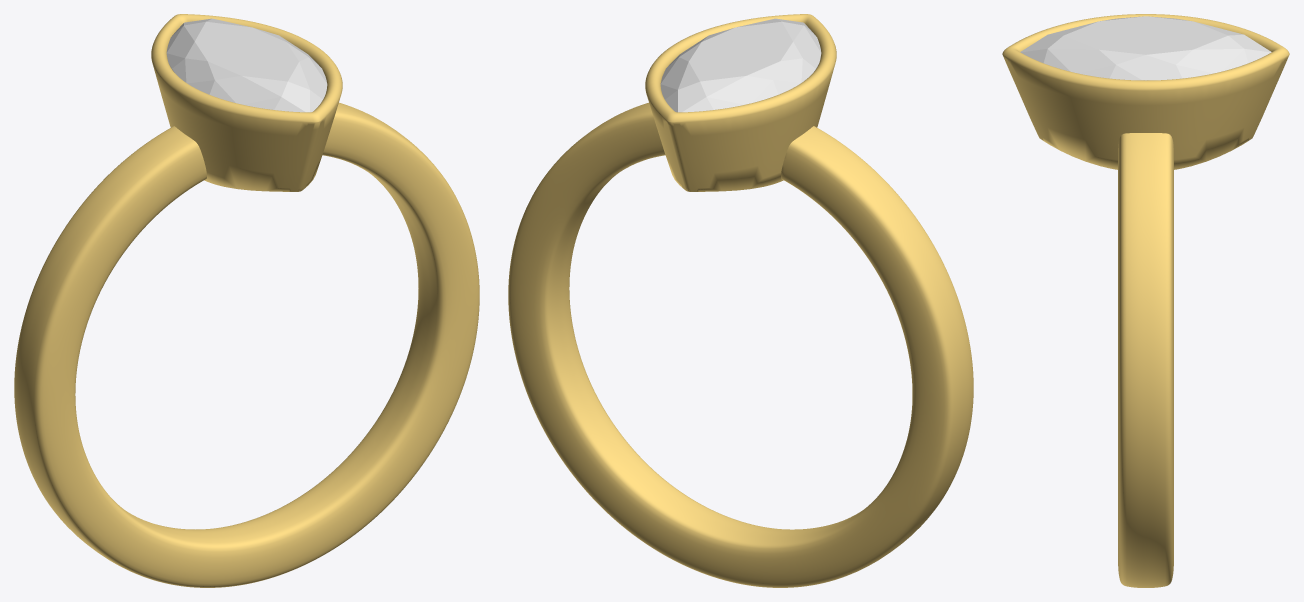
Rendered from diamond-marquise-yellowgold-bezelset-straightband-nosidestones.glb.
3 renders of one model, left to right at view 1: azimuth 30°, elevation 25°; view 2: azimuth 150°, elevation 25°; view 3: azimuth 270°, elevation 25°, orthographic.
Parts seen in each view (by area): view 1: metal.002, stone; view 2: metal.002, stone; view 3: metal.002, stone.
Part boxes in pixels (x1=…): metal.002: x1=14, y1=14, x2=479, y2=587; stone: x1=166, y1=18, x2=327, y2=112; metal.002: x1=508, y1=14, x2=973, y2=587; stone: x1=660, y1=18, x2=821, y2=112; metal.002: x1=1002, y1=14, x2=1289, y2=587; stone: x1=1020, y1=16, x2=1271, y2=80.
Bounding box in the file's own units: 20.49 × 22.93 × 11.31.
